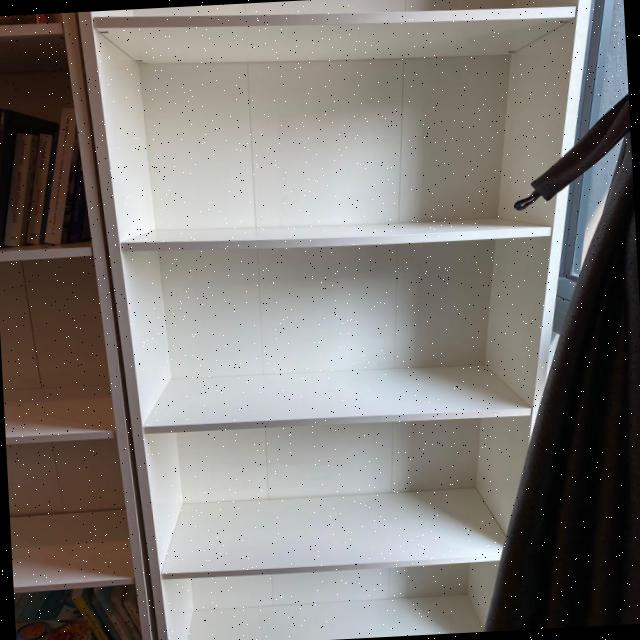Shelf: (0, 0, 621, 640)
